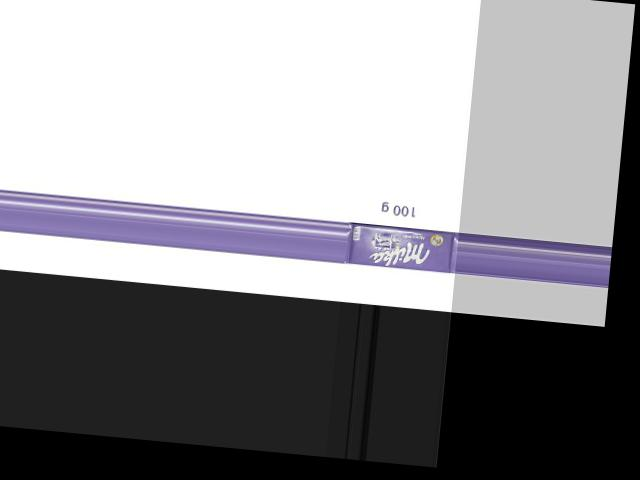chocolate: (343, 214, 456, 274)
